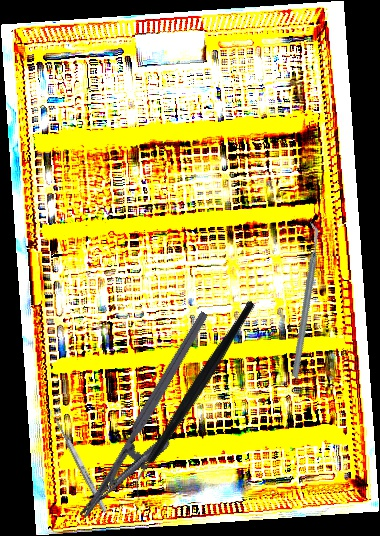Chopper: (81, 299, 308, 503), (235, 221, 373, 380)
Needle Holder: (77, 310, 238, 536)
Surgical Spoon: (48, 408, 109, 514)
